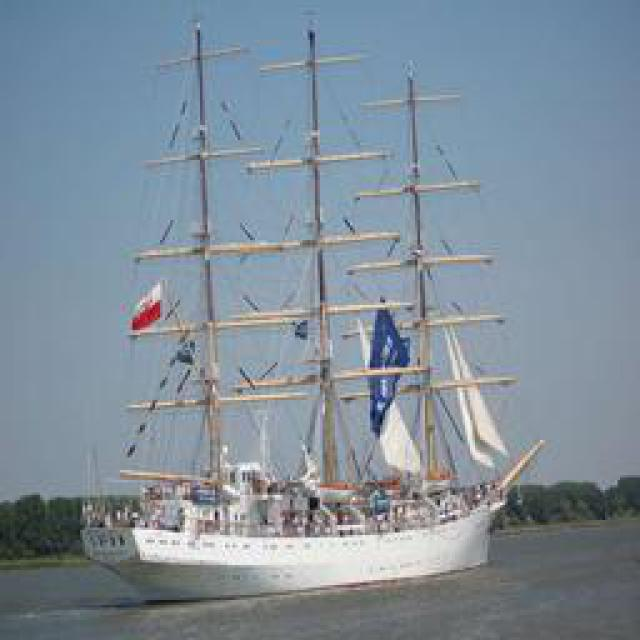Ship: (86, 15, 524, 595)
